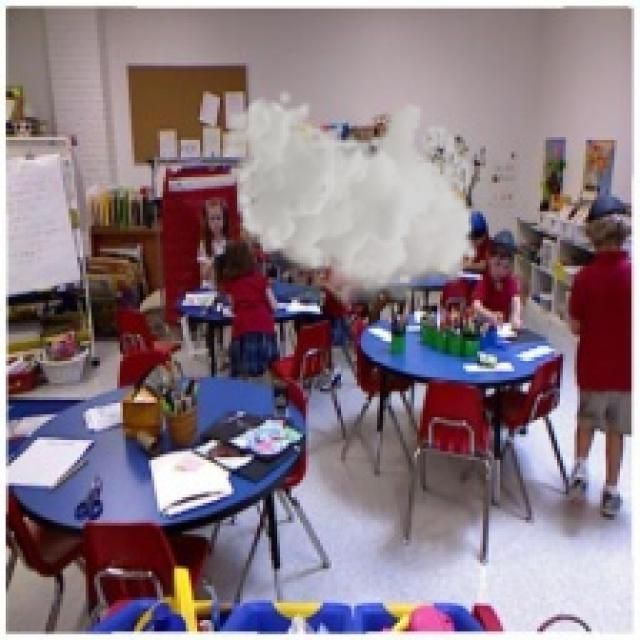Smoke: (225, 88, 480, 314)
